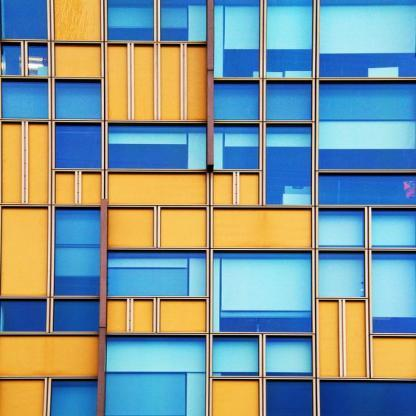Building Outline: (0, 0, 416, 416)
Facade: (0, 0, 416, 416)
Floor: (0, 0, 416, 121), (0, 127, 416, 243), (0, 250, 416, 335), (0, 341, 415, 415)
Floor Slab: (0, 120, 416, 127), (0, 243, 416, 250), (0, 334, 415, 341)
Window: (318, 80, 416, 170), (212, 250, 312, 333), (105, 335, 206, 416), (318, 0, 416, 78), (107, 249, 206, 296), (108, 123, 207, 169), (55, 206, 100, 296), (266, 123, 314, 205), (213, 0, 261, 77), (266, 0, 314, 77), (371, 251, 416, 333), (320, 381, 415, 416), (318, 172, 416, 205), (54, 122, 102, 169), (213, 123, 261, 170), (317, 251, 365, 297), (0, 78, 48, 119), (107, 0, 155, 41), (160, 0, 208, 41), (54, 78, 102, 119), (212, 335, 259, 376), (265, 335, 312, 376), (317, 208, 365, 248), (266, 80, 314, 120), (213, 80, 261, 120), (0, 0, 48, 39), (371, 207, 416, 248), (51, 379, 98, 416), (265, 379, 312, 416), (0, 299, 47, 332), (53, 299, 99, 332), (0, 42, 21, 76), (27, 42, 48, 76)
